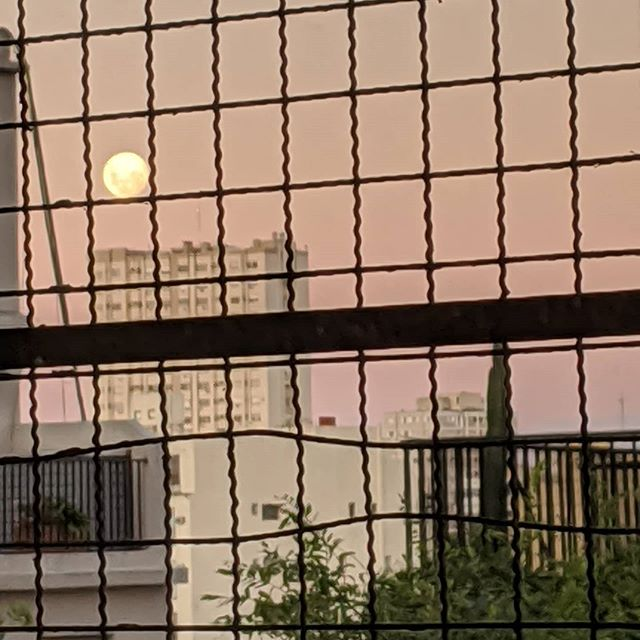building: (97, 243, 314, 430)
moon: (99, 150, 154, 203)
sky: (338, 1, 640, 406), (175, 1, 640, 236)
